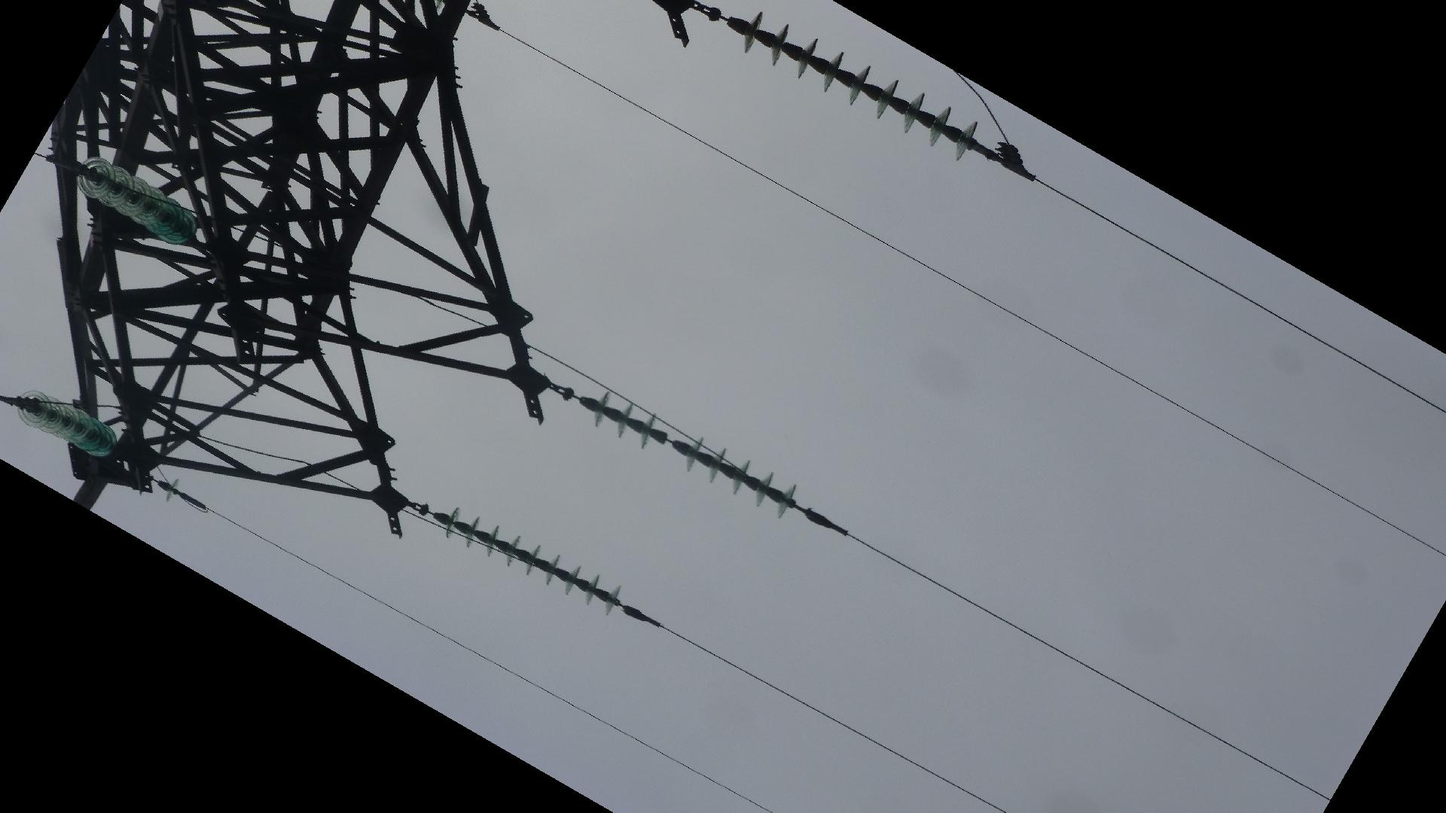insulator: (737, 7, 986, 169), (589, 383, 807, 522), (435, 501, 629, 618), (69, 152, 204, 255), (15, 383, 126, 469)
insulator_stringdrop: (634, 408, 709, 477)
